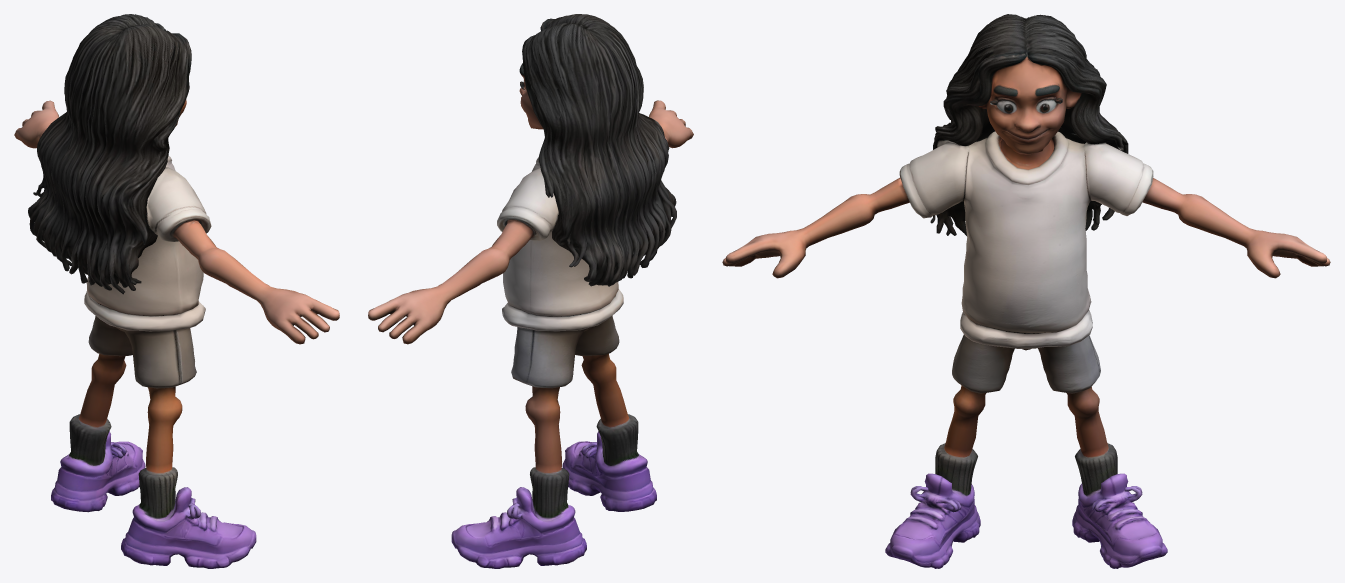
The picture shows the model from 3 angles, left to right: view 1: azimuth 30°, elevation 25°; view 2: azimuth 150°, elevation 25°; view 3: azimuth 270°, elevation 25°; orthographic projection. The views are drawn at different scales.
Visible parts, largest first — view 1: tripo_node_7465a76e; view 2: tripo_node_7465a76e; view 3: tripo_node_7465a76e.
Boxes of the visible parts, x1=… form: tripo_node_7465a76e: x1=14, y1=14, x2=339, y2=568; tripo_node_7465a76e: x1=368, y1=14, x2=693, y2=568; tripo_node_7465a76e: x1=722, y1=14, x2=1330, y2=568.
Size of the model in its own units: 27.2 by 95.3 by 100.
1 material, 1 textured.
